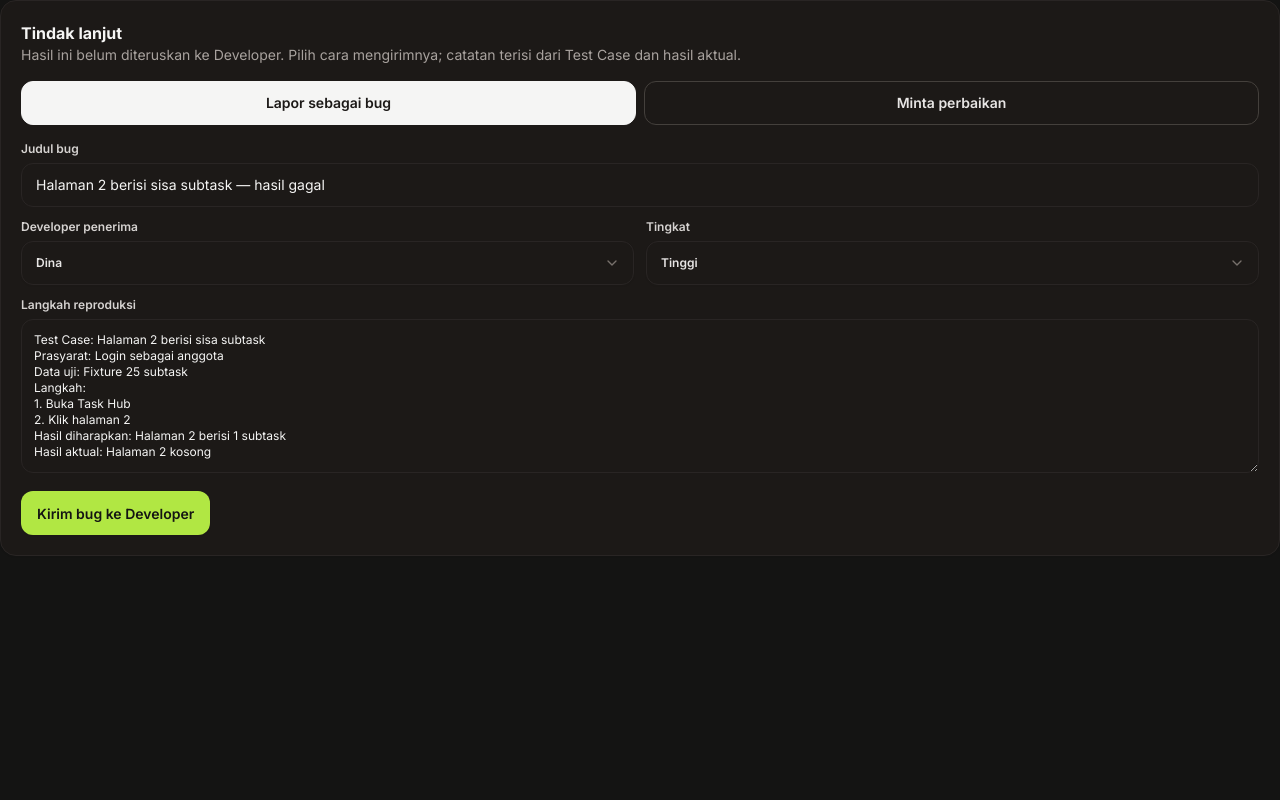
Test: TestCaseFollowUpPanel (AC-3.5) › shows the error and keeps the form when sending fails
Click the button "Kirim bug ke Developer".
click(116, 513)  # box [21,491,210,535]
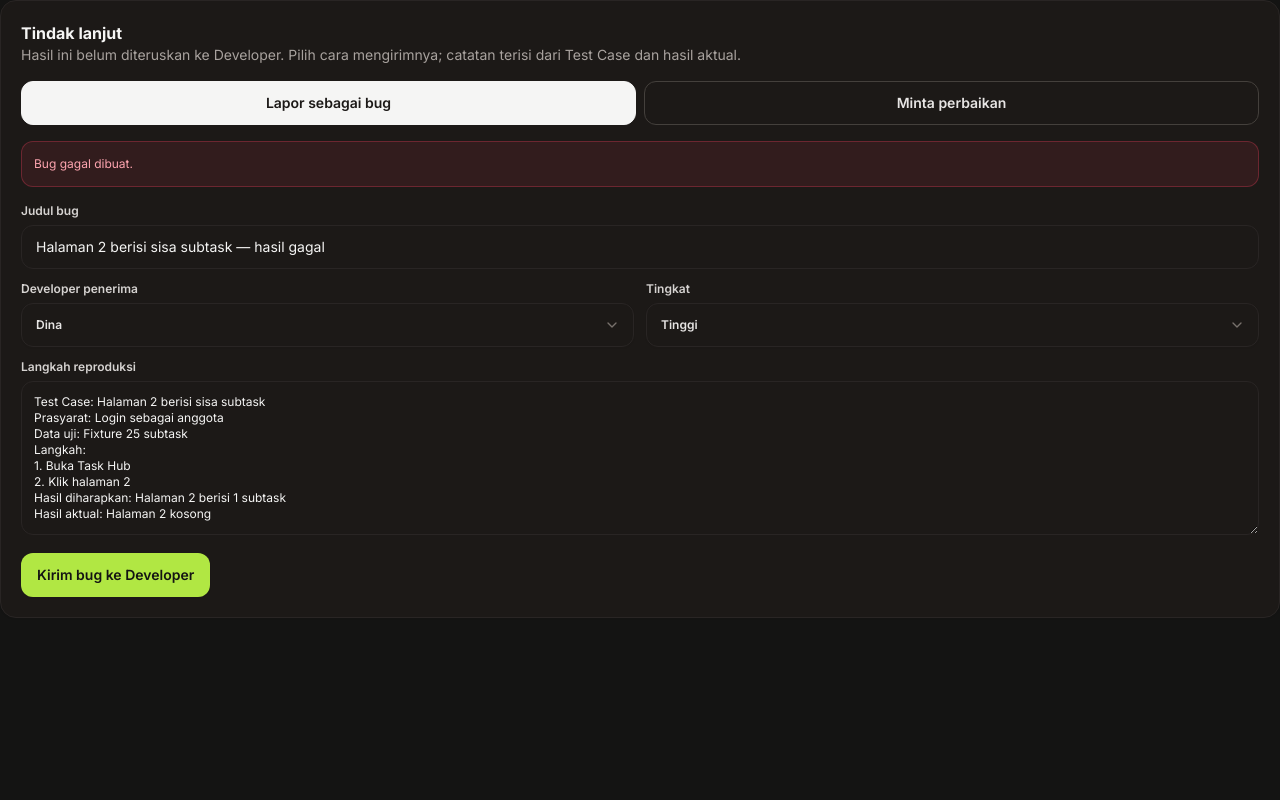
Check: the button "Kirim bug ke Developer" is enabled, box [21,552,210,596]
Check: the text "Bug gagal dibuat." is shown, box [34,154,133,174]
